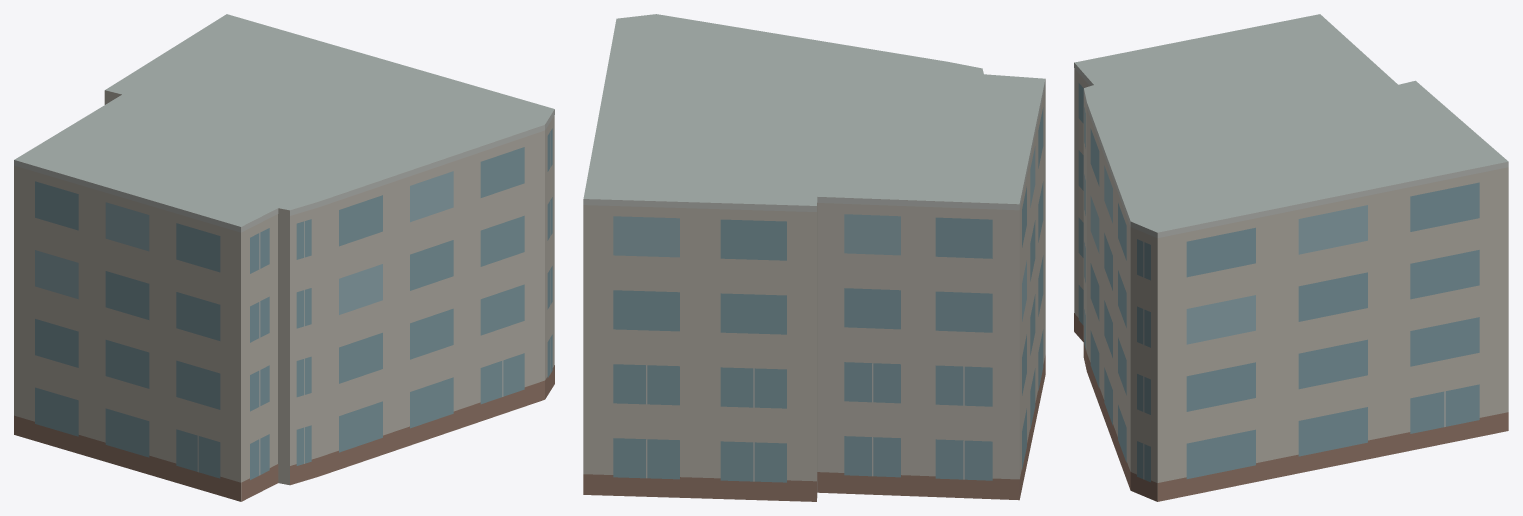
Rendered from survey-upis-32739218.glb.
3 renders of one model, left to right at view 1: azimuth 30°, elevation 25°; view 2: azimuth 150°, elevation 25°; view 3: azimuth 270°, elevation 25°, orthographic. The views are drawn at different scales.
Parts seen in each view (by area): view 1: survey-upis-32739218.tmp; view 2: survey-upis-32739218.tmp; view 3: survey-upis-32739218.tmp.
Part boxes in pixels (x1=…): survey-upis-32739218.tmp: x1=14, y1=14, x2=554, y2=501; survey-upis-32739218.tmp: x1=583, y1=14, x2=1045, y2=501; survey-upis-32739218.tmp: x1=1074, y1=14, x2=1508, y2=501.
Size of the model in its own units: 20.64 by 11.84 by 17.33.
